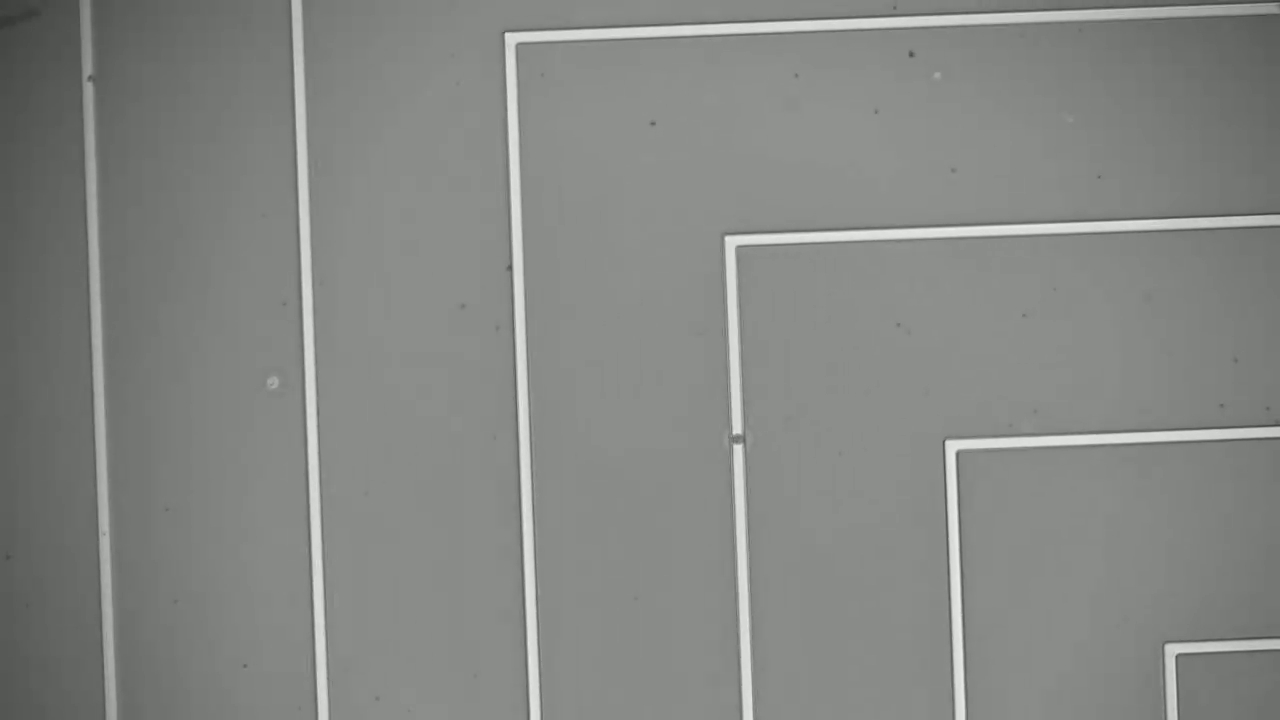stains_enbedded: (723, 423, 752, 452)
